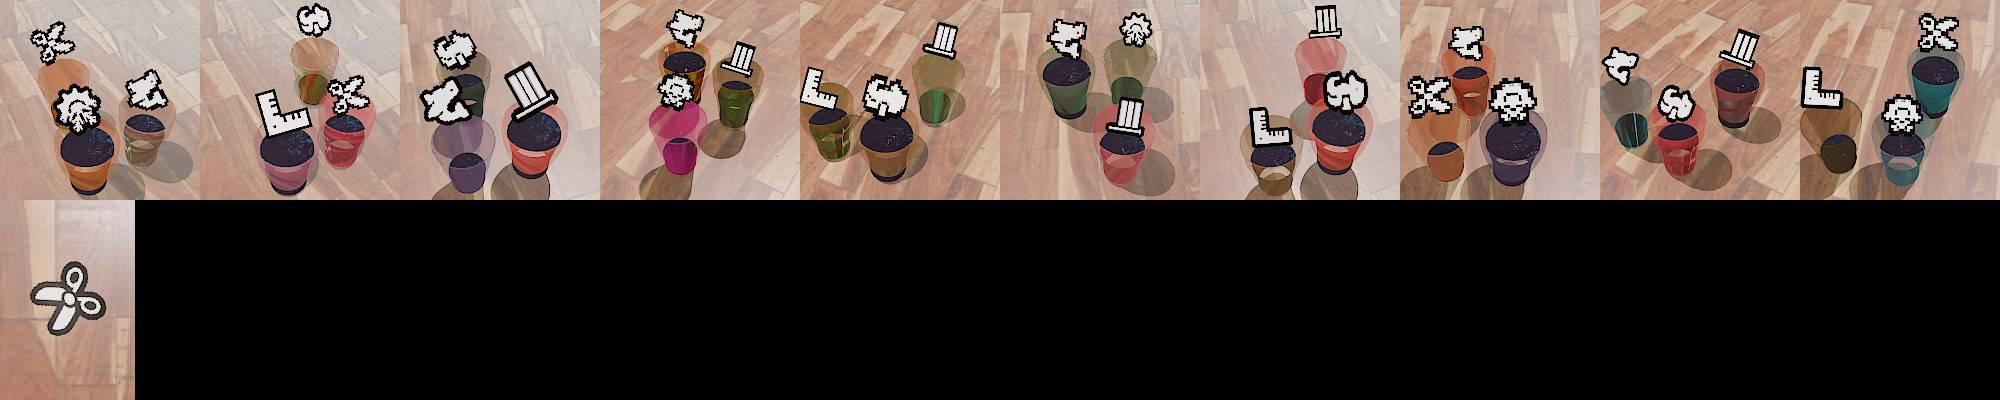icon: (28, 260, 107, 336), (504, 60, 560, 120), (255, 88, 314, 140), (418, 74, 474, 125), (51, 82, 105, 132), (861, 71, 911, 118), (28, 20, 77, 65), (1321, 69, 1370, 112), (1487, 76, 1536, 120), (798, 65, 842, 112), (1247, 104, 1293, 148), (1798, 65, 1843, 108), (1408, 74, 1454, 116), (125, 69, 171, 111), (431, 29, 478, 70), (327, 73, 369, 115), (1880, 93, 1923, 134), (1917, 13, 1960, 54), (666, 9, 705, 51), (656, 71, 698, 111), (1719, 29, 1761, 68), (1106, 96, 1145, 135), (922, 19, 960, 60), (1047, 18, 1087, 56), (1603, 46, 1642, 85), (1656, 85, 1695, 121), (1448, 24, 1485, 61), (296, 3, 332, 38), (1119, 11, 1153, 48), (723, 39, 756, 75), (1311, 4, 1342, 38)
